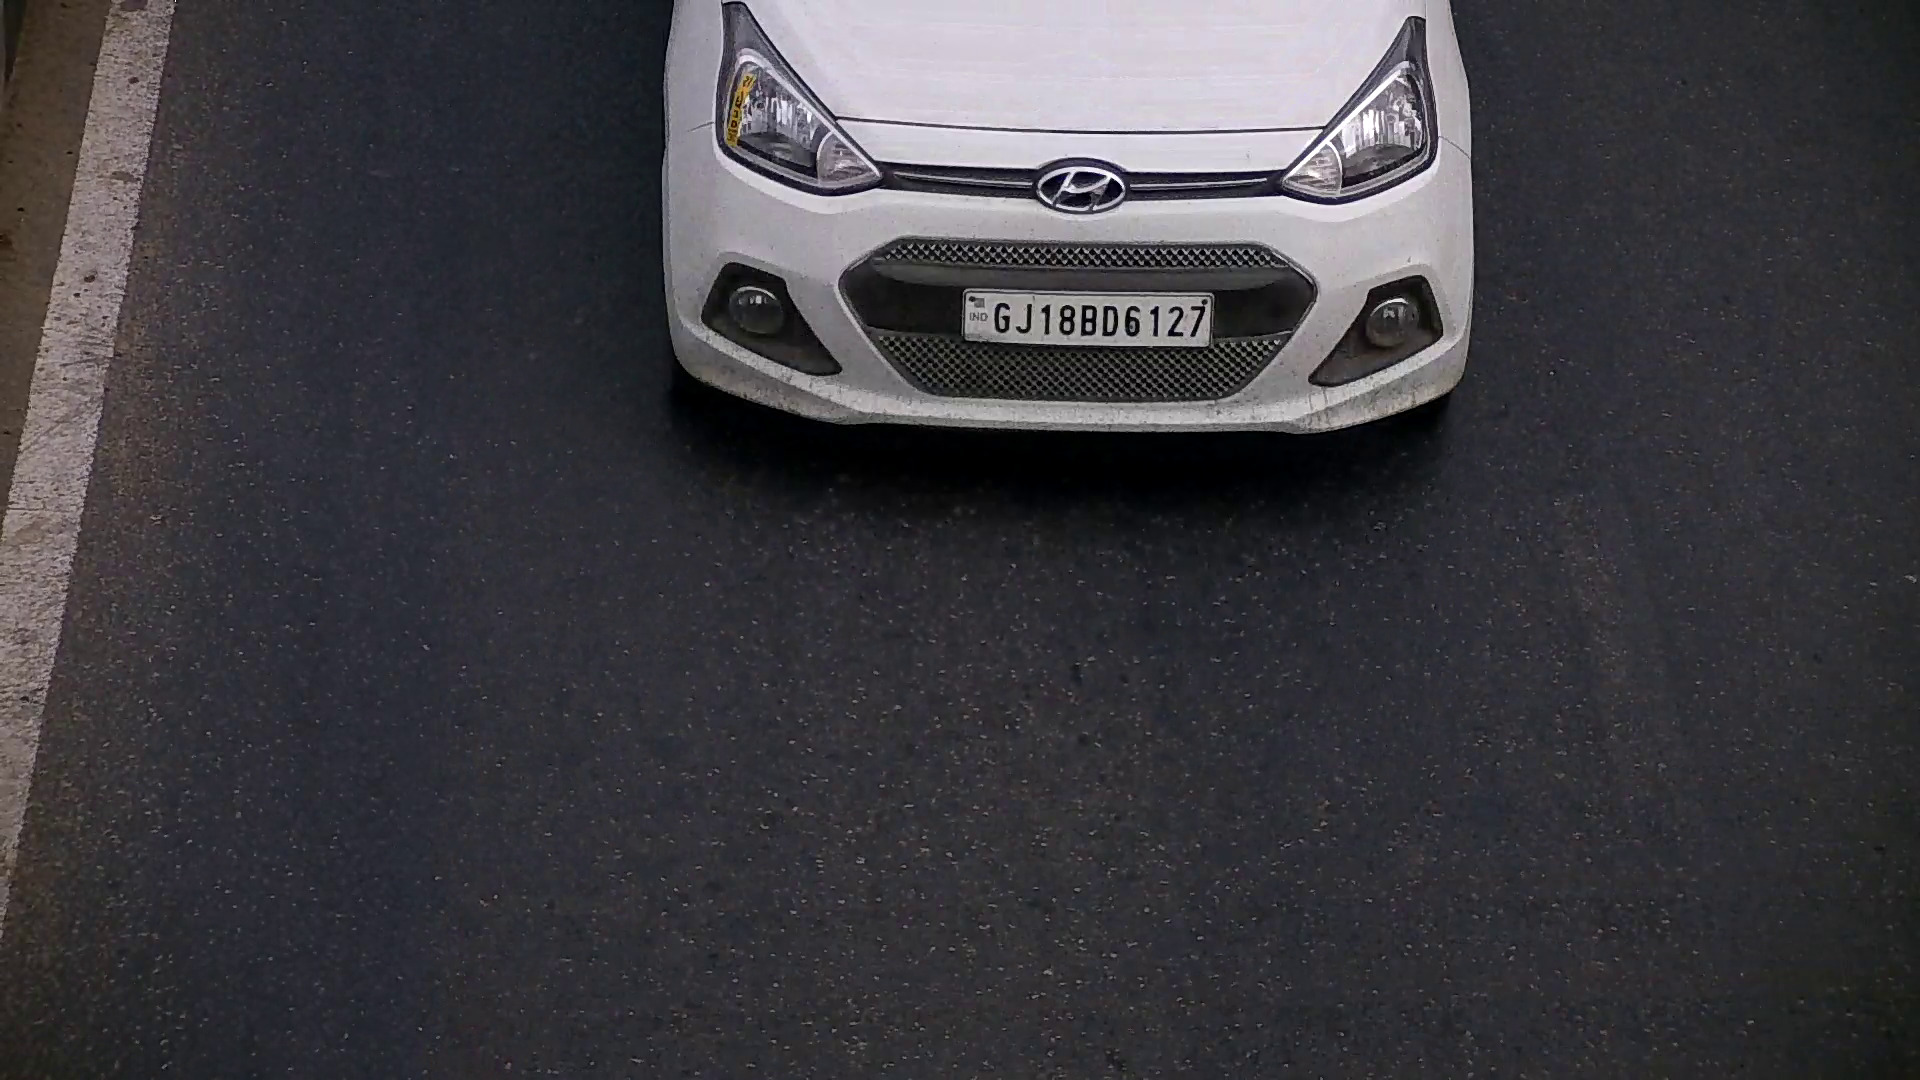numberplate: (957, 286, 1216, 350)
